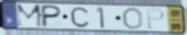1: (95, 6, 106, 30)
C: (70, 6, 91, 29)
M: (15, 4, 44, 29)
O: (122, 7, 145, 31)
P: (40, 4, 63, 29), (145, 8, 166, 30)
